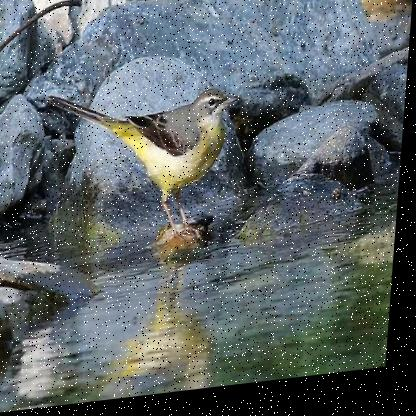Burung: (39, 76, 244, 258)
